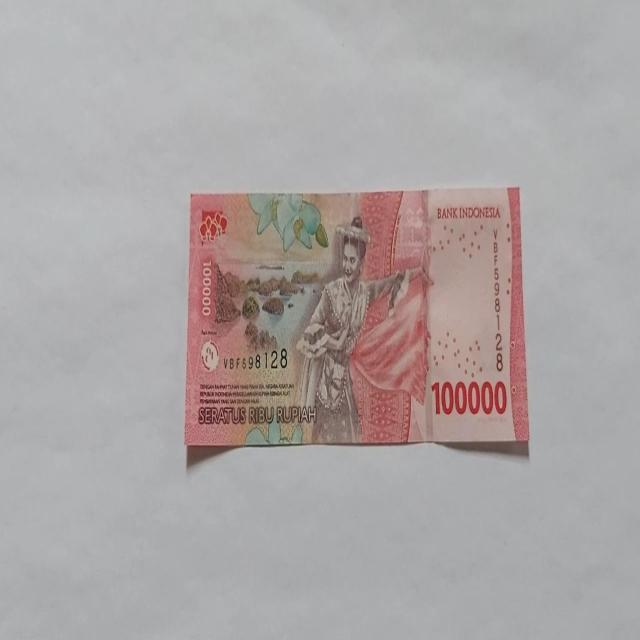Kertas: (184, 186, 529, 452), (430, 378, 508, 417)
